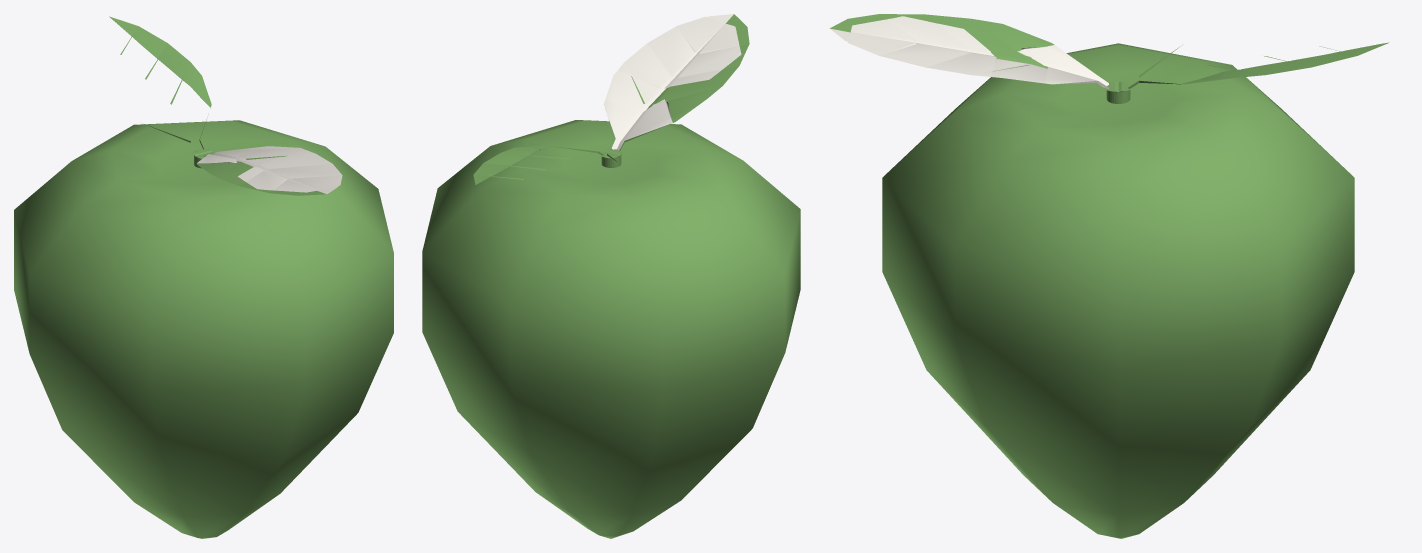
The model's file is Turnip.fbx.
3 renders of one model, left to right at view 1: azimuth 30°, elevation 25°; view 2: azimuth 150°, elevation 25°; view 3: azimuth 270°, elevation 25°, orthographic. The views are drawn at different scales.
Visible parts, largest first — view 1: Body; view 2: Body; view 3: Body.
Part boxes in pixels (x1,y1,x2,y2): Body: (14,16,393,538); Body: (422,14,800,538); Body: (829,14,1388,538).
Size of the model in its own units: 188 by 224 by 230.
